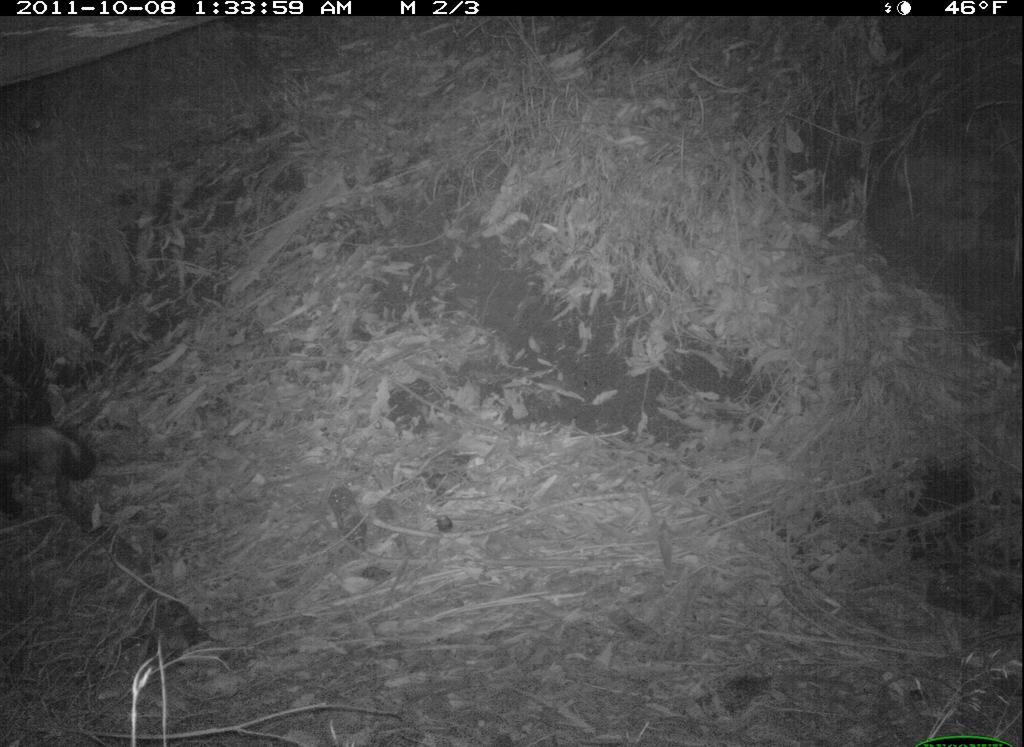skunk: (2, 396, 113, 536)
